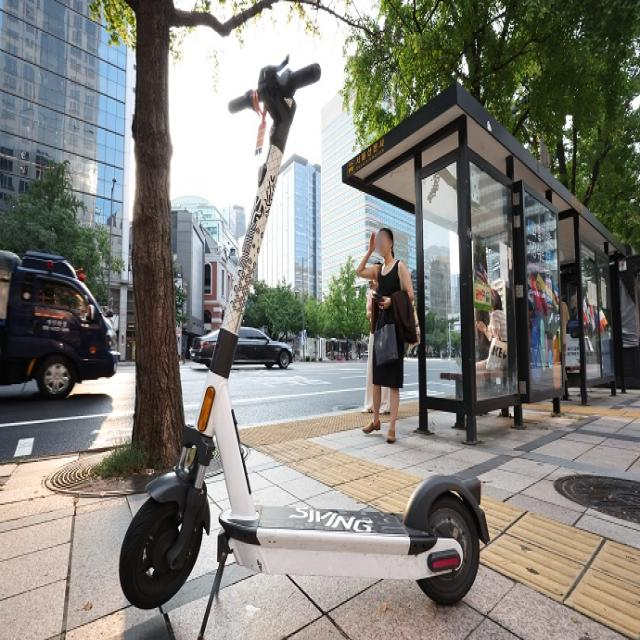human: (362, 229, 410, 441)
kickboard_no: (133, 502, 493, 602)
tactile_paving: (509, 508, 640, 627), (246, 426, 364, 501)
